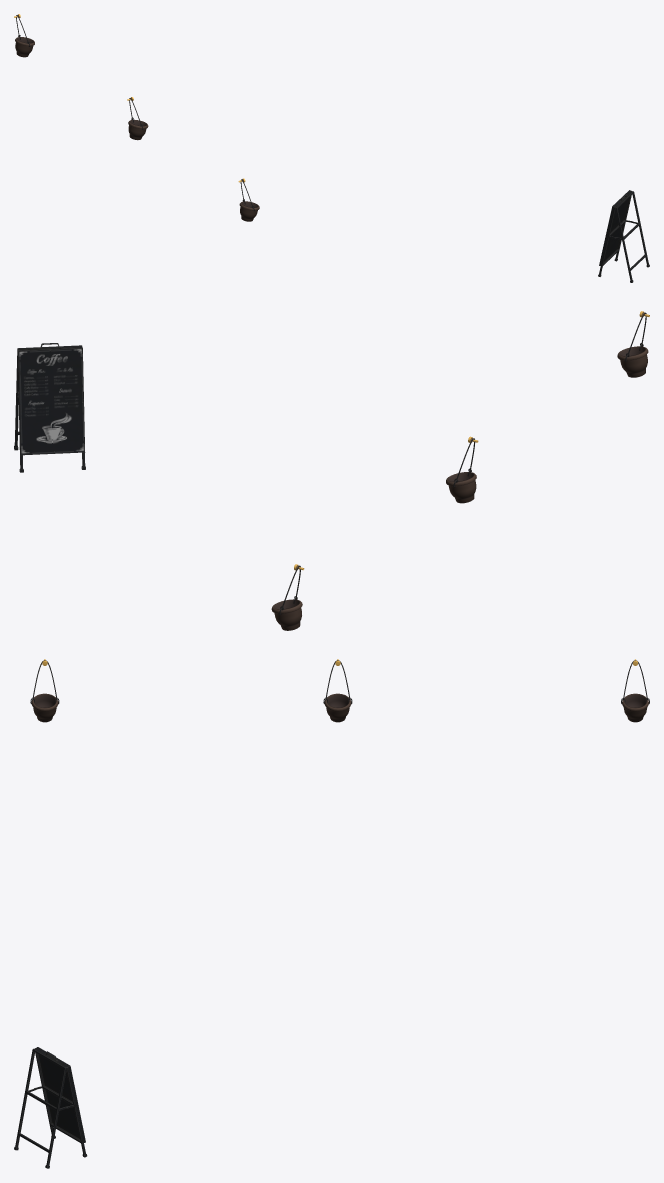
Rendered from BoardCafeA_MenuPlantPot.fbx.
3 renders of one model, top to bottom at view 1: azimuth 30°, elevation 25°; view 2: azimuth 150°, elevation 25°; view 3: azimuth 270°, elevation 25°, orthographic. The views are drawn at different scales.
Visible parts, largest first — view 1: BoardCafeA_MenuPlantPot; view 2: BoardCafeA_MenuPlantPot; view 3: BoardCafeA_MenuPlantPot.
Boxes of the visible parts, x1,y1,x2,y2 form: BoardCafeA_MenuPlantPot: (14,14,649,282); BoardCafeA_MenuPlantPot: (14,311,649,630); BoardCafeA_MenuPlantPot: (14,659,649,1168).
Bounding box in the file's own units: 514 × 224 × 523.
